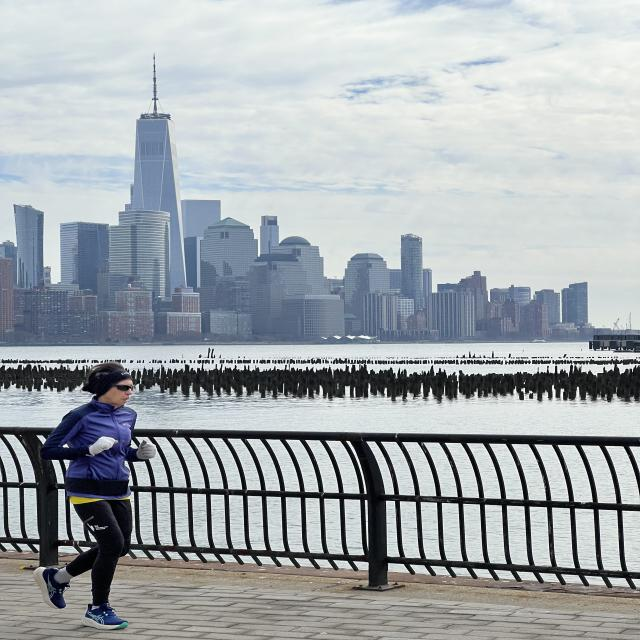WTC: (130, 54, 182, 214)
